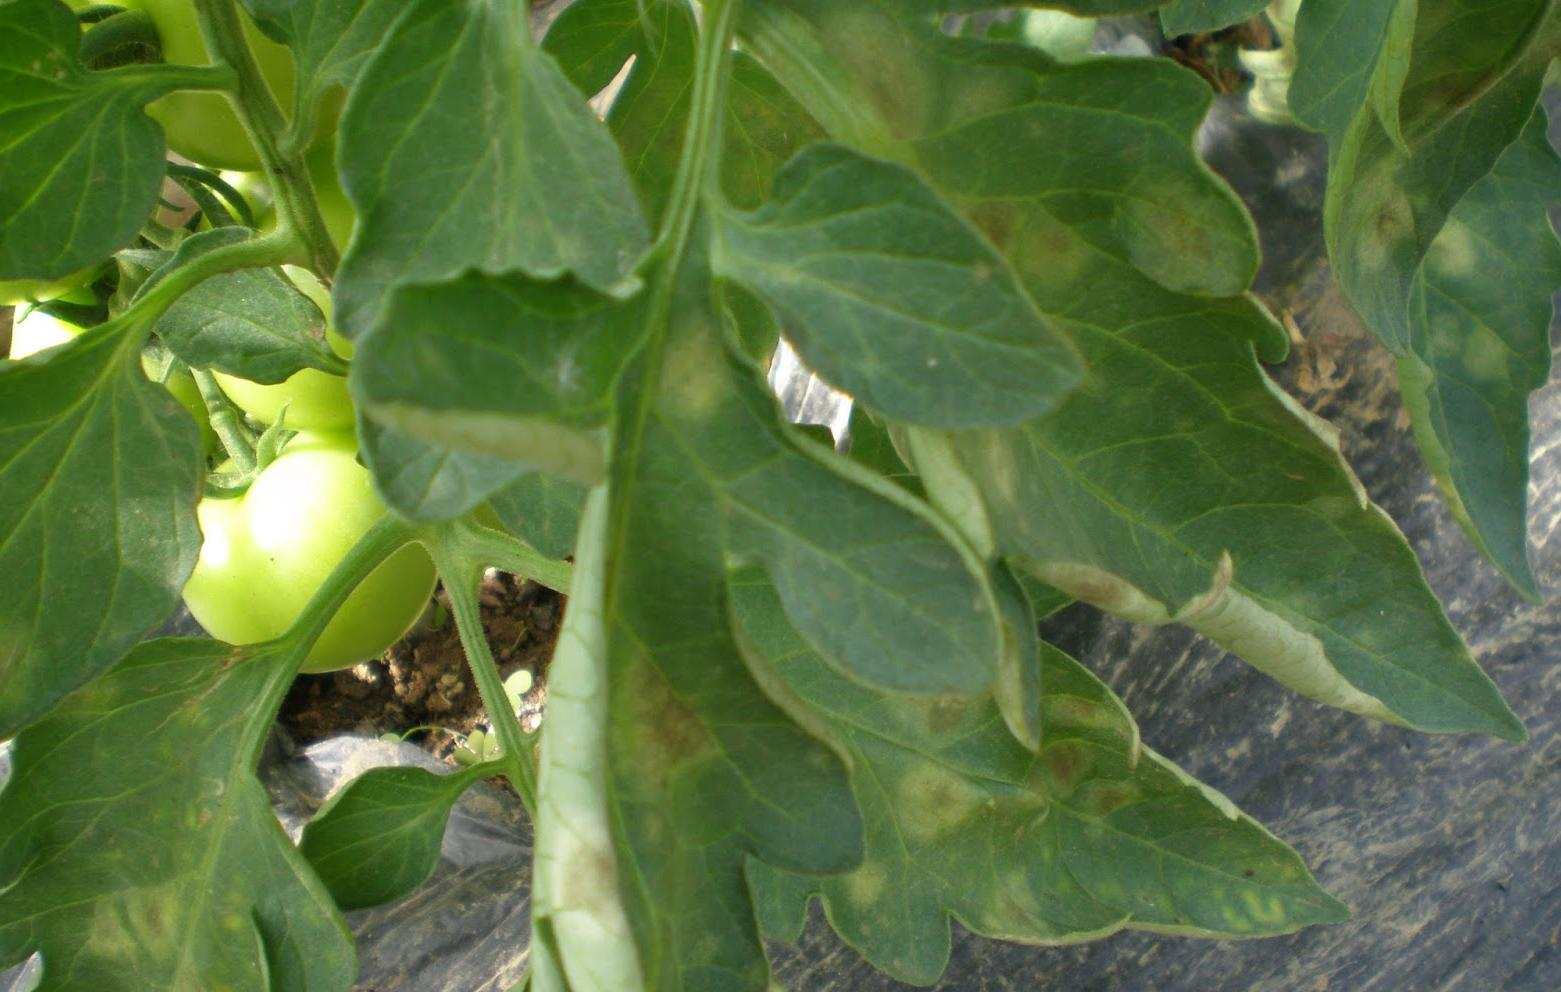Tomato mold leaf: (682, 0, 1504, 738), (759, 502, 1319, 976), (519, 358, 831, 992), (1300, 0, 1561, 596), (0, 616, 356, 992), (322, 0, 655, 317)
